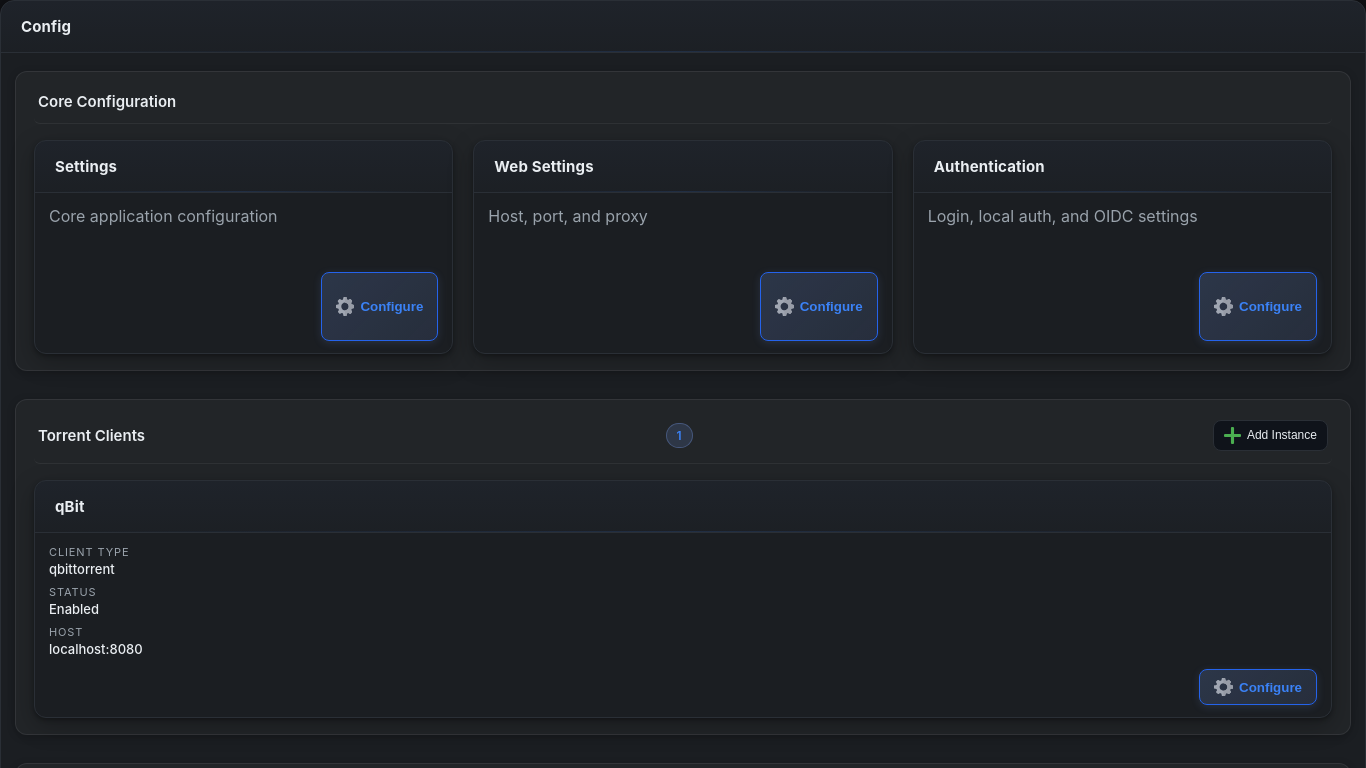
Test case: ConfigView – UrlBase field › renders Url Base field in Web Settings modal
This screenshot has width=1366, height=768.
Expected: the text "Web Settings" is shown, [474, 141, 892, 193]
What coordinates should you click on to do the following:
click the button "Configure" below "Host, port, and proxy"
I would click on:
 (819, 306)
Its box is [760, 272, 878, 341].
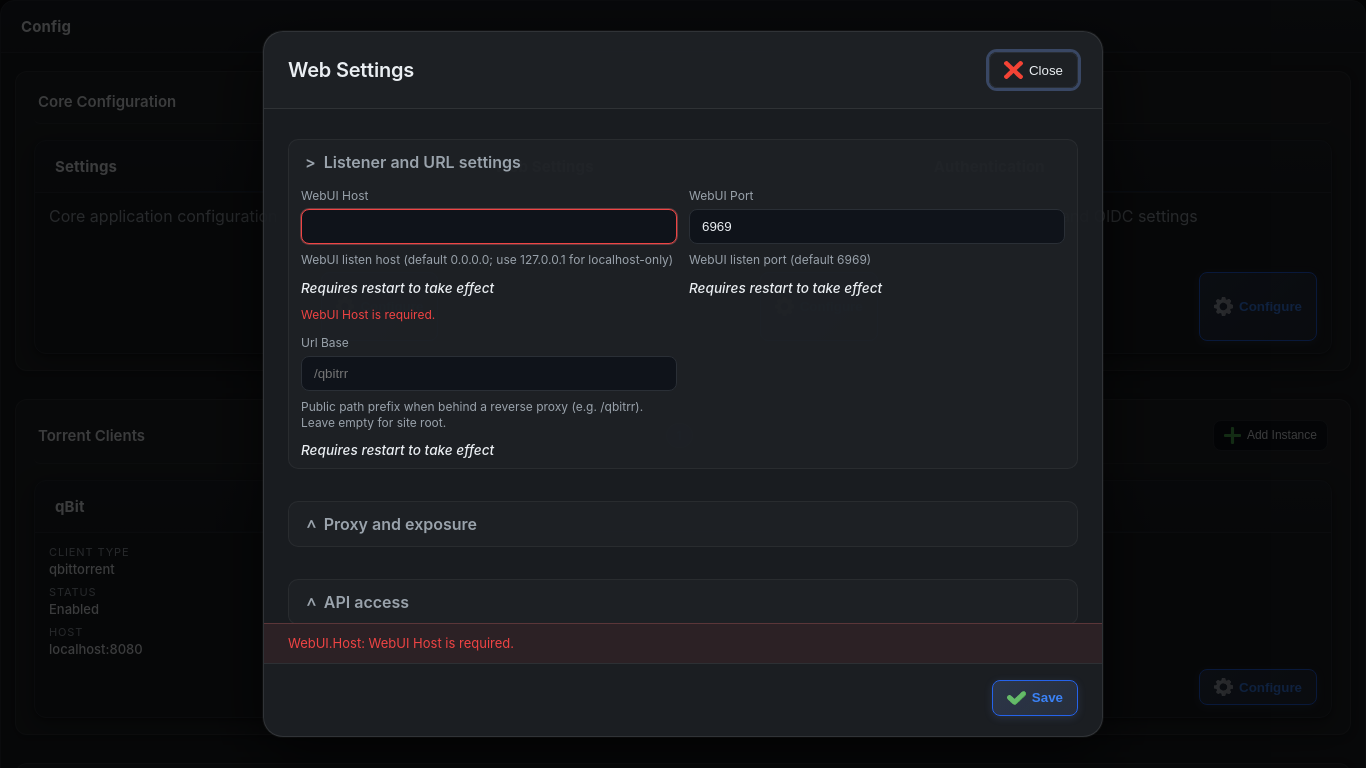
Expected: the text "Url Base" is shown, [301, 335, 349, 350]
